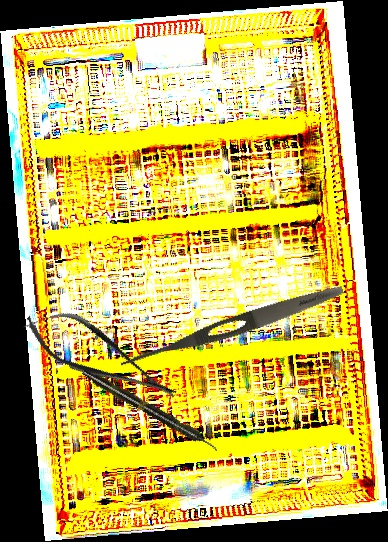Dressing Forceps: (117, 279, 347, 376)
Handpiece: (80, 366, 221, 455)
Micro Scissor: (15, 294, 187, 420)
